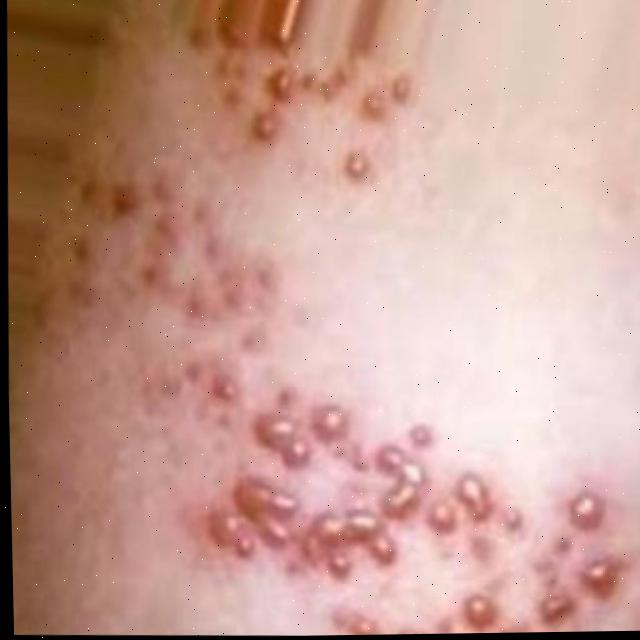Shingles: (179, 368, 625, 637), (74, 175, 291, 346), (220, 55, 414, 174)
